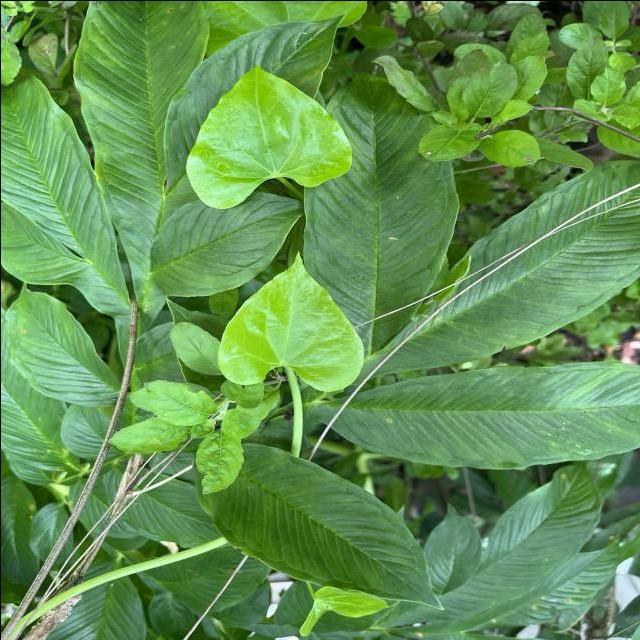Tinospora cordifolia: (182, 62, 354, 212), (215, 246, 365, 394)
